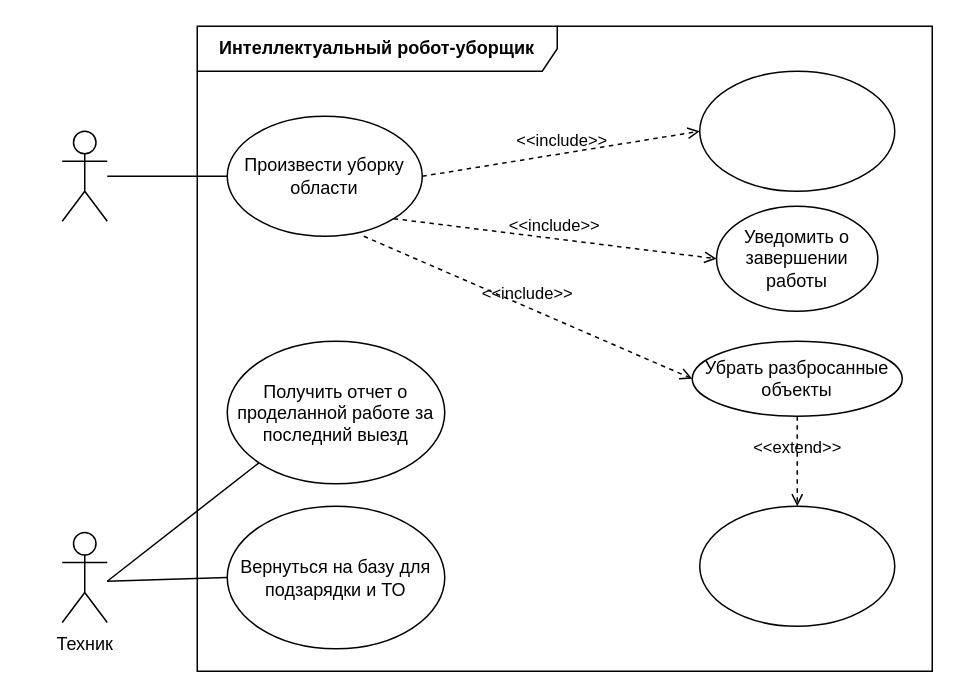
Some shapes in this 959 by 698 pixel diagram are drawn without their labels. Each missing label, with the centre of its shape:
"Выполнить экстренную остановку" goes at [796,565].
"Пользователь" goes at [84,175].
"Сканировать и оценить область уборки" goes at [796,130].
